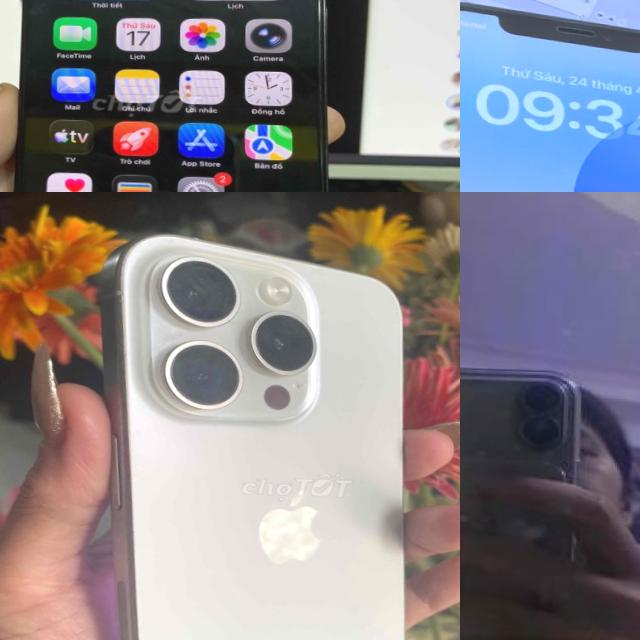gen_12_13: (460, 192, 640, 640)
gen_14: (0, 0, 342, 192)
gen_15: (82, 217, 442, 640)
gen_x_xs: (460, 0, 640, 192)
